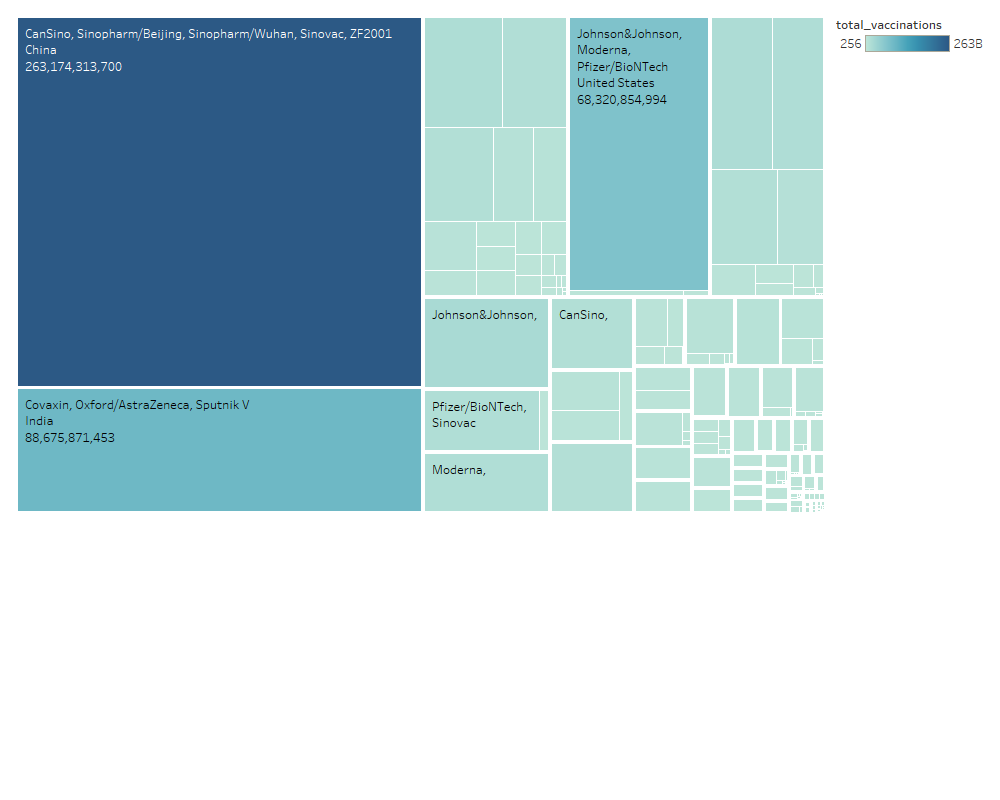

This screenshot's page, from the dashboard's own definition file:
{"tool":"tableau","page":{"name":"Dashboard 1","canvas":[1000,800],"ordinal":0},"visuals":[{"type":"worksheet","title":"Sheet 7","mark":"Automatic","rows":["country"],"cols":["people_fully_vaccinated"],"box":[8,8,984,784]}]}

Visuals, with their boxes in screenshot pixels (x1, y1, x2, y2), scaled from the page's 1000x800 canvas onto the 1000x800 screenshot:
"Sheet 7" worksheet: {"x1": 8, "y1": 8, "x2": 992, "y2": 792}
